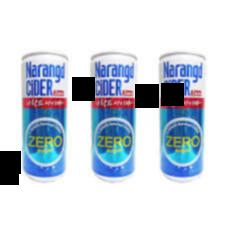narangdcider: (87, 50, 138, 182), (156, 50, 207, 180), (19, 53, 69, 183)
